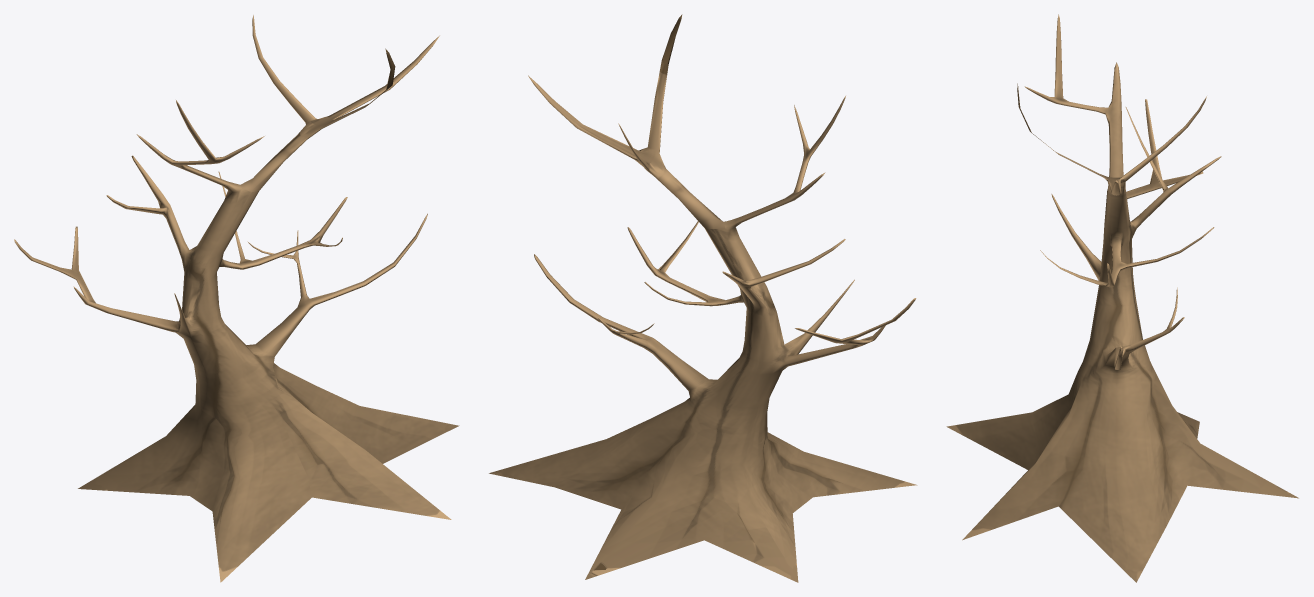
File: Trees_3.fbx
3 renders of one model, left to right at view 1: azimuth 30°, elevation 25°; view 2: azimuth 150°, elevation 25°; view 3: azimuth 270°, elevation 25°, orthographic. The views are drawn at different scales.
Parts seen in each view (by area): view 1: Pablo_Low_Tree3; view 2: Pablo_Low_Tree3; view 3: Pablo_Low_Tree3.
Part boxes in pixels (box(x1,y1,x2,y2)): Pablo_Low_Tree3: box(14, 15, 459, 582); Pablo_Low_Tree3: box(489, 14, 917, 582); Pablo_Low_Tree3: box(946, 14, 1298, 582).
Size of the model in its own units: 4039 by 4024 by 2927.
